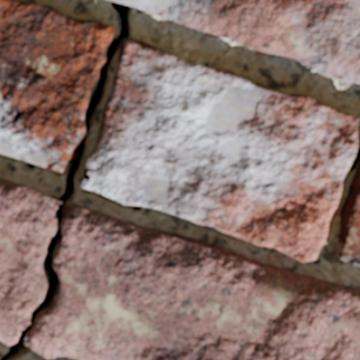brick: (81, 40, 358, 261), (0, 0, 113, 172), (335, 149, 359, 266)
broken_brick: (26, 204, 359, 359), (103, 0, 359, 85), (0, 179, 59, 346)
crack: (0, 1, 132, 359), (81, 167, 97, 183)
